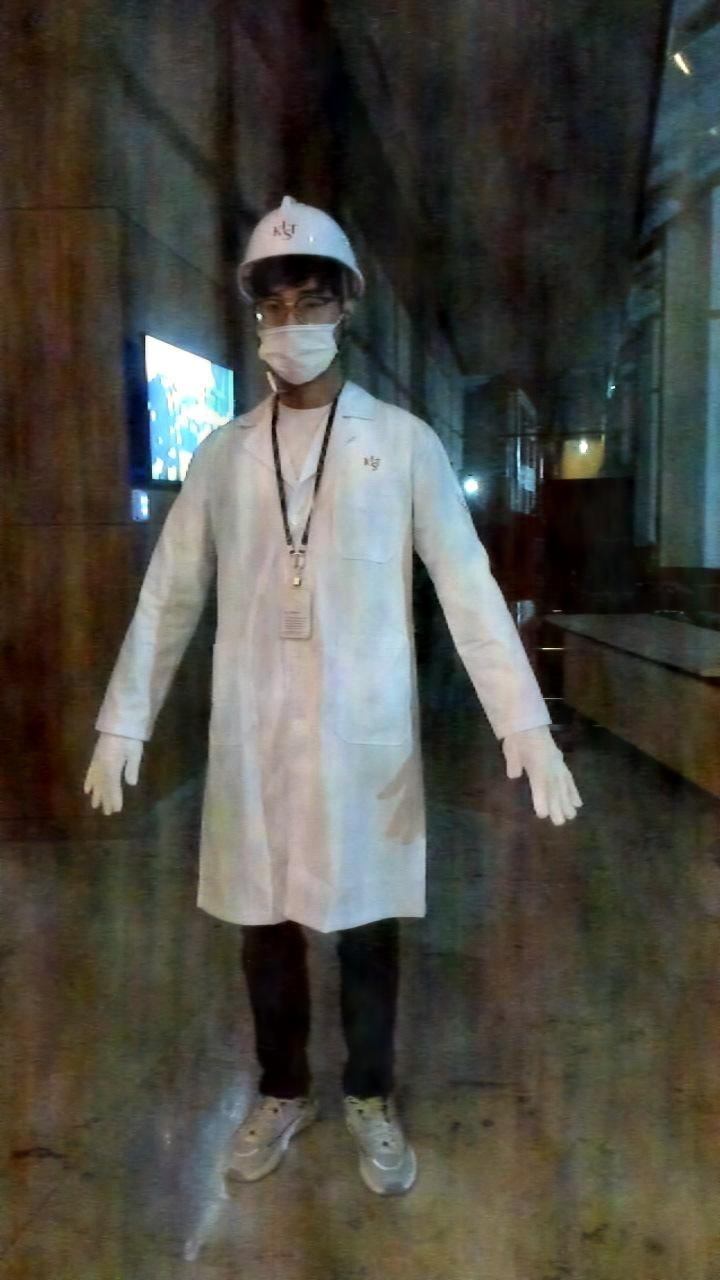Lab_coat: (92, 379, 554, 936)
